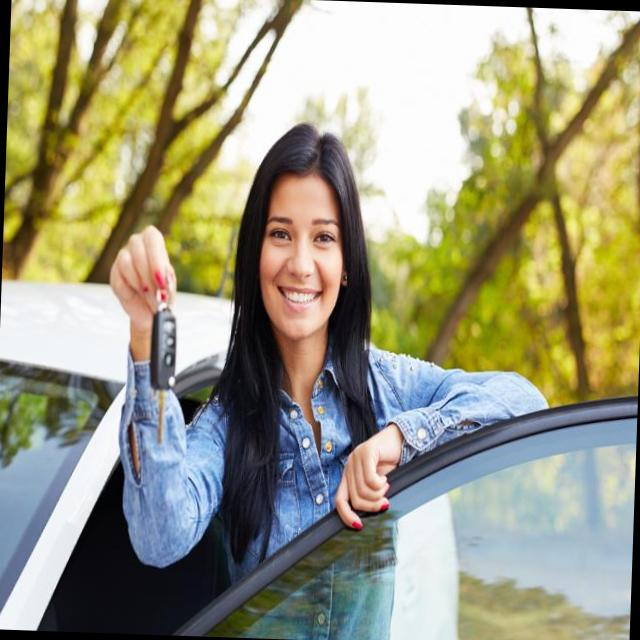Focused: (257, 174, 347, 342)
